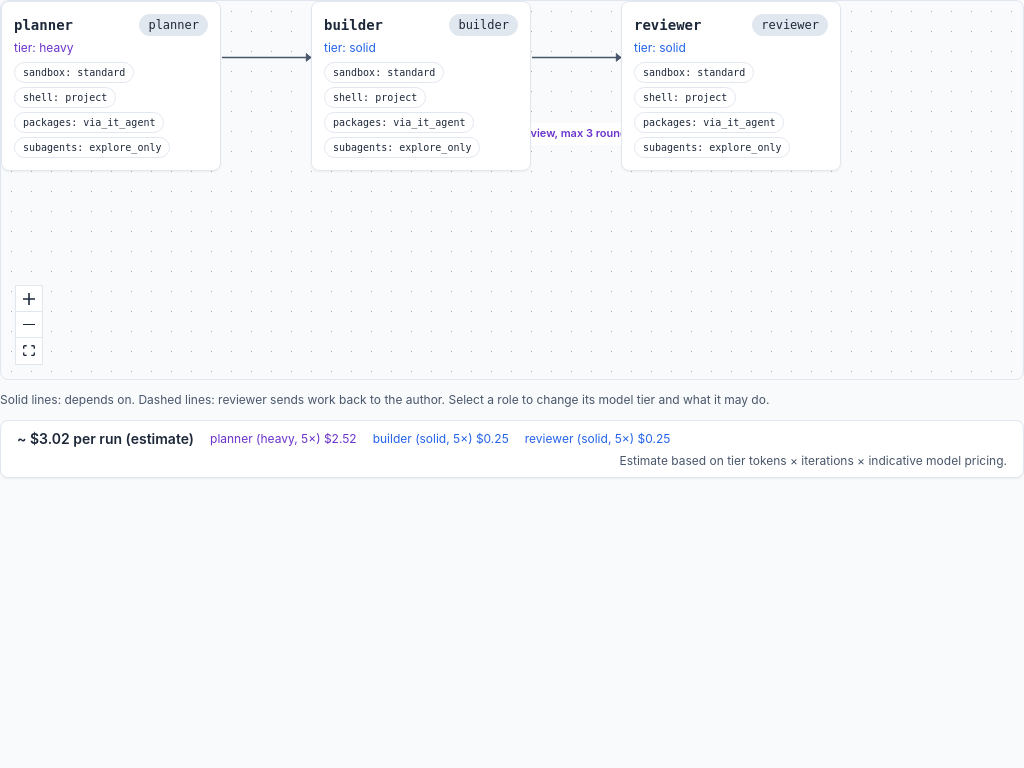
Test: TeamGraph › opens a side sheet with switches and updates the cost estimate on change
Click the element with test id "team-node-builder". click: (421,86)
box: [311,1,531,171]
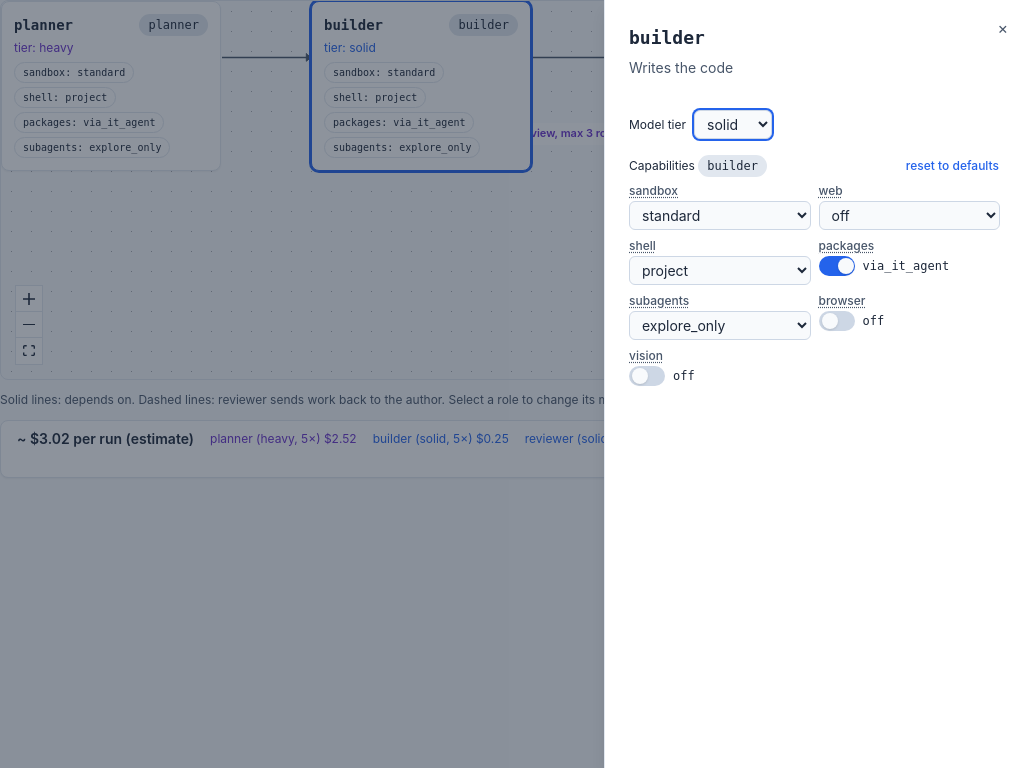
Select "search" in the dropdown named "builder web". click: (909,216)
box: [818,201,1000,230]
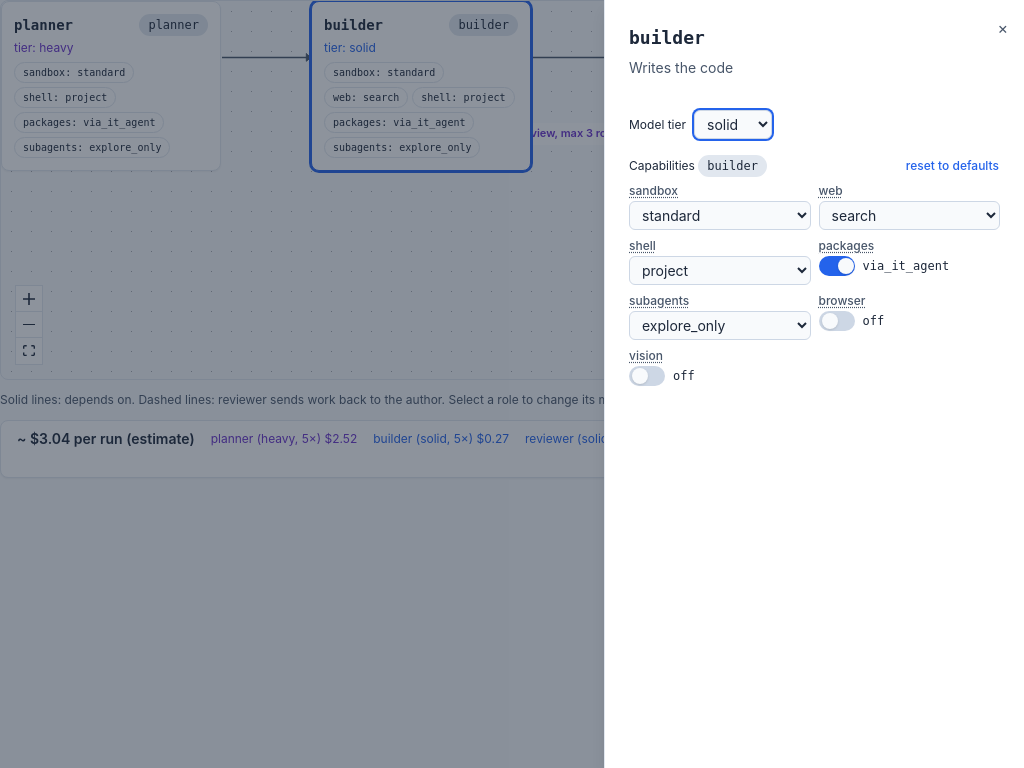
Expected: the element with test id "team-node-builder" shows "web: search", [333,92,399,103]
